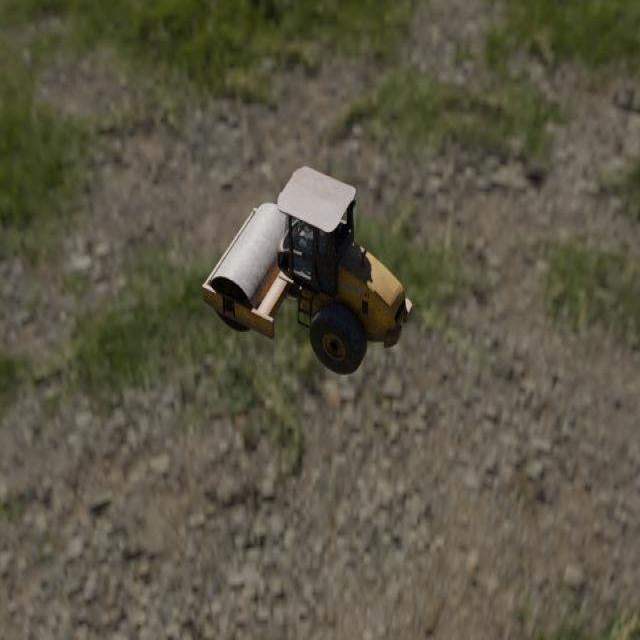Roller: (201, 165, 412, 375)
